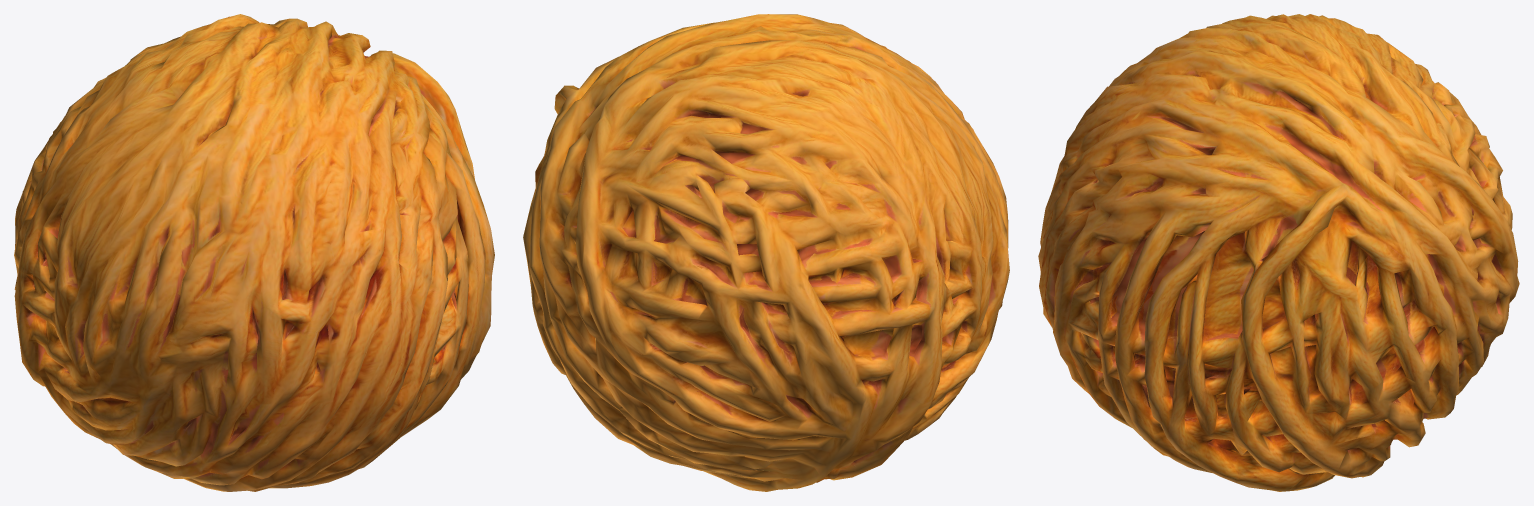
File: ball_of_yarn.glb
The picture shows the model from 3 angles, left to right: view 1: azimuth 30°, elevation 25°; view 2: azimuth 150°, elevation 25°; view 3: azimuth 270°, elevation 25°; orthographic projection.
Size of the model in its own units: 1.98 by 1.94 by 1.99.
1 material, 1 textured.
